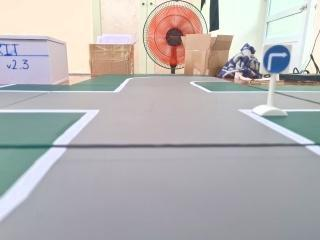right: (262, 41, 293, 78)
